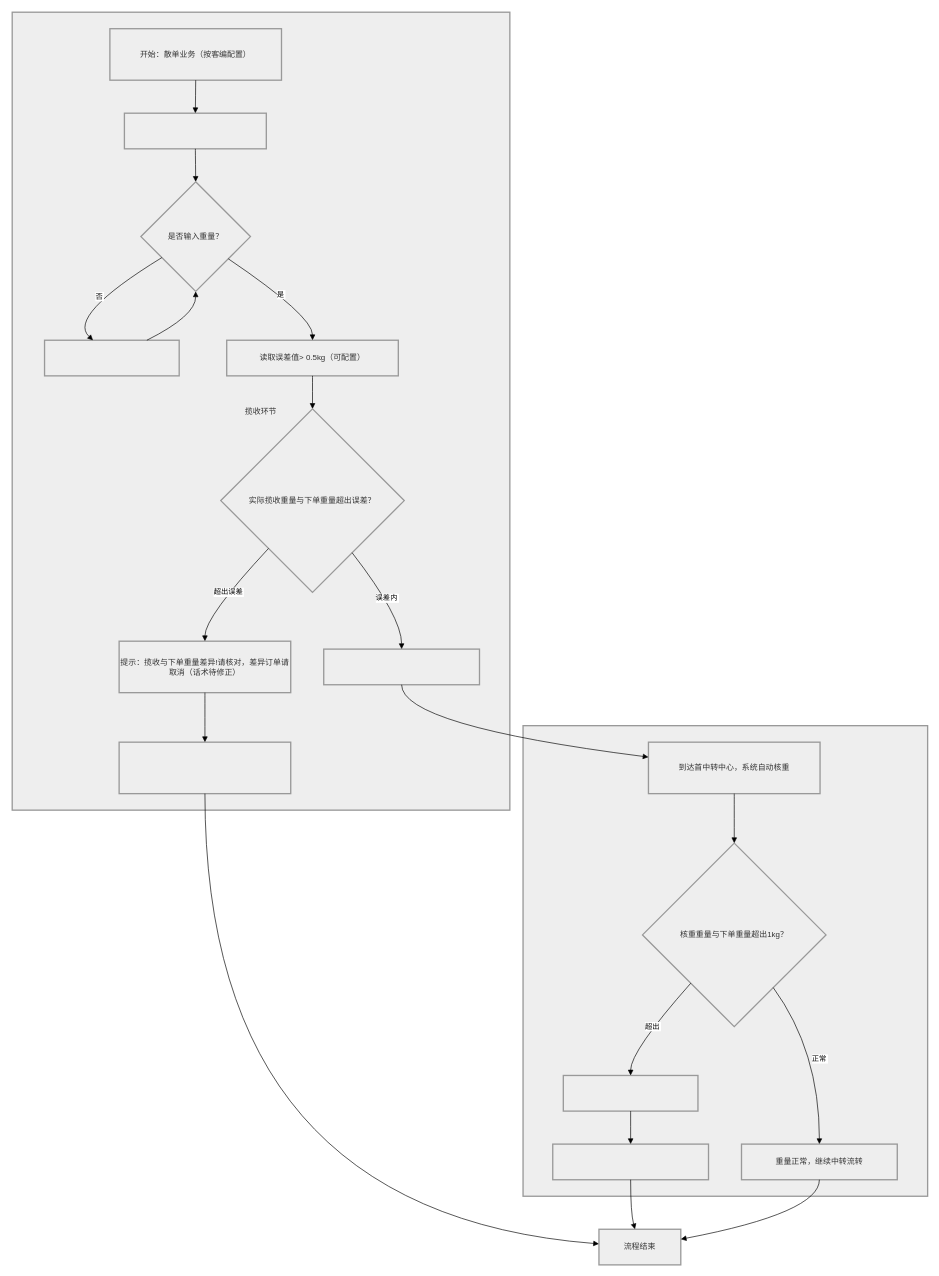
Image size: 939x1276. Some labels were removed from this diagram. Here are the shapes that lost their labels. From the top down, the centre of each, then its label:
At (x=195, y=130): "揽派APP重量默认清零".
At (x=112, y=357): "提示：强制输入重量".
At (x=401, y=666): "重量校验通过，揽收成功".
At (x=204, y=767): "揽收员手工取消订单，取消类型：重量差异".
At (x=630, y=1092): "出发包裹拦截并退还".
At (x=630, y=1161): "拦截费用由寄件网点承担".
